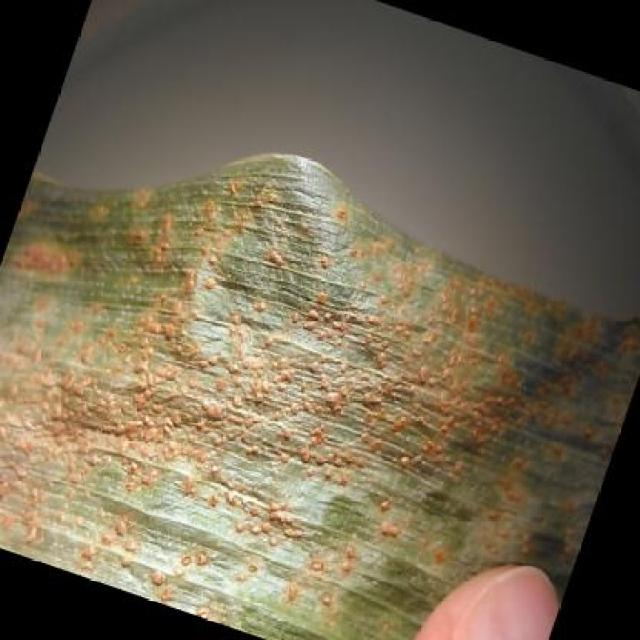Corn_Rust: (40, 157, 578, 560)
